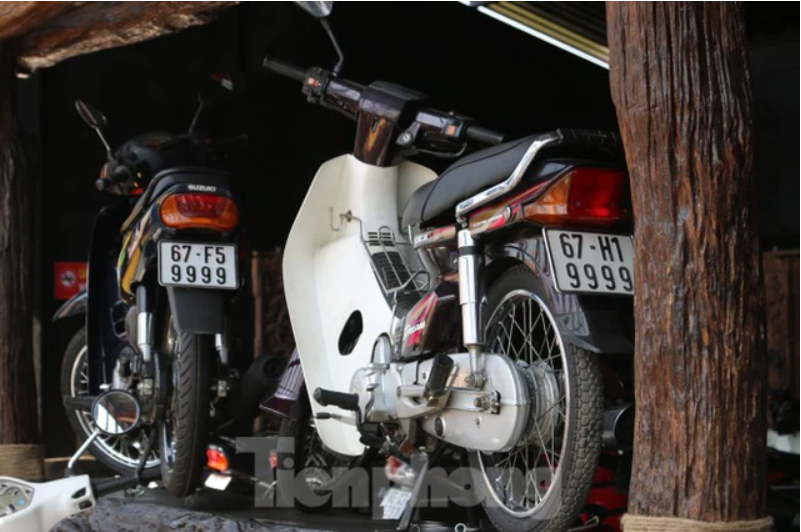bien_so: (537, 226, 650, 297), (153, 234, 242, 295)
